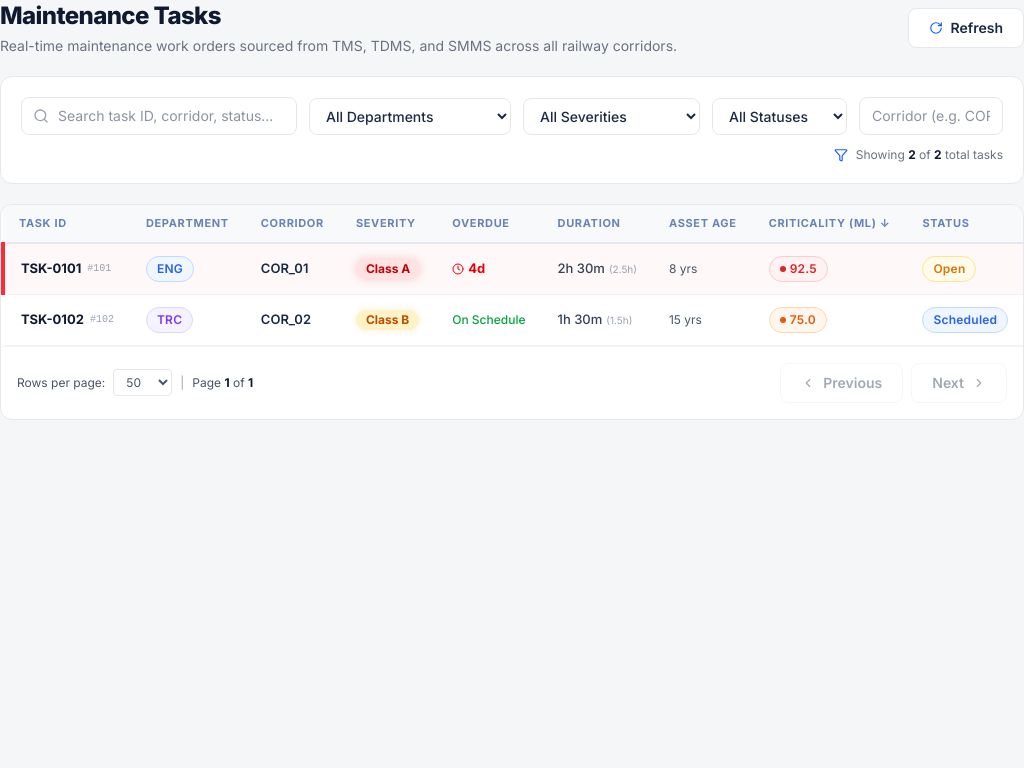
Test: TasksPage - Filtering and Interaction › opens task drawer on row click with detailed specification
Click the text "TSK-0101" at (51, 269), box [21, 259, 81, 278]
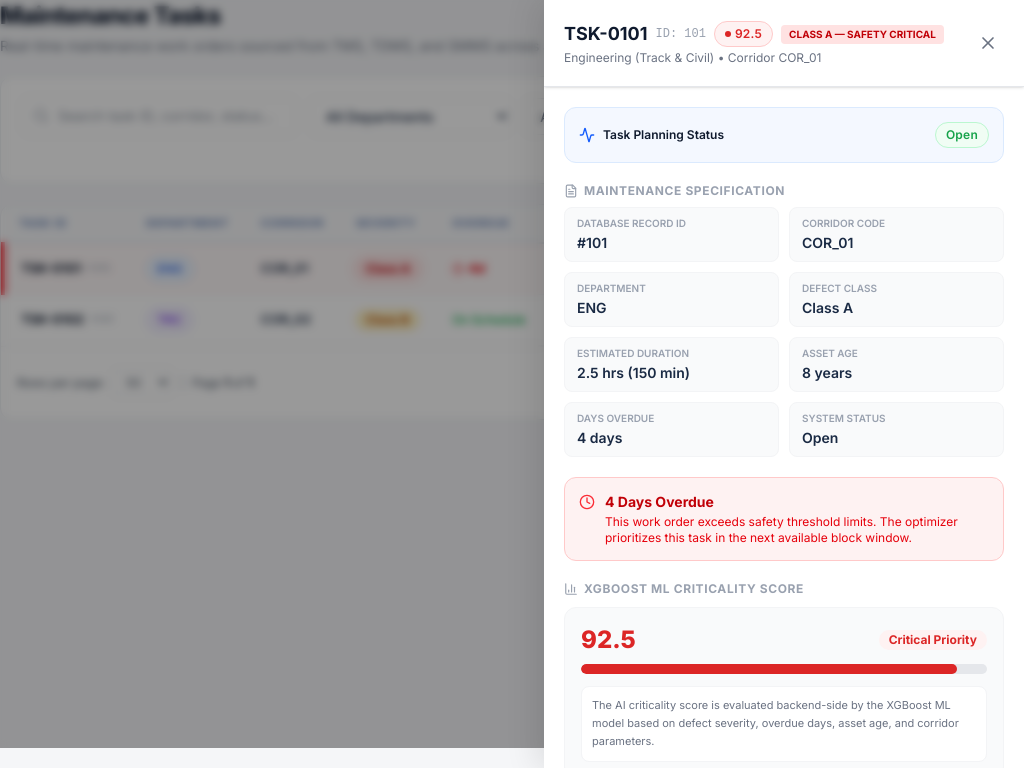
Now the heading "Maintenance Specification" is shown, box [564, 183, 785, 198]
Now the text "CLASS A — SAFETY CRITICAL" is shown, box [781, 24, 944, 44]
Now the text "4 Days Overdue" is shown, box [605, 493, 714, 510]
